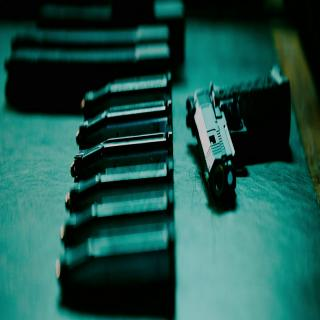gun: (188, 62, 292, 197)
